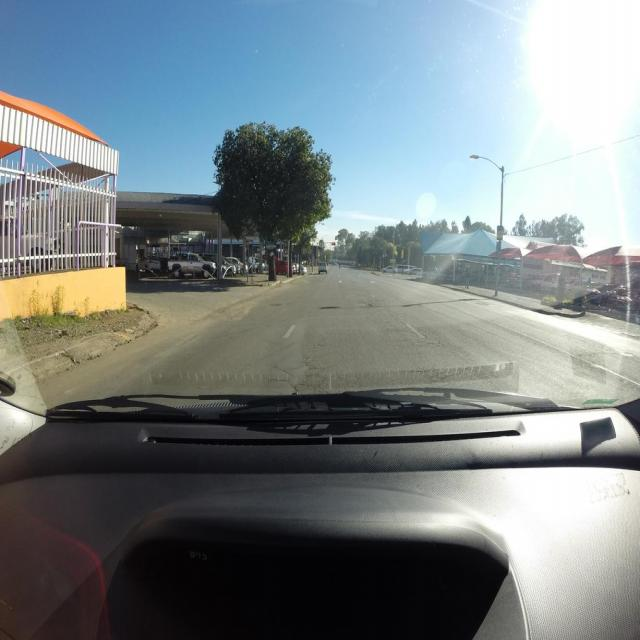Pothole: (364, 304, 374, 308)
